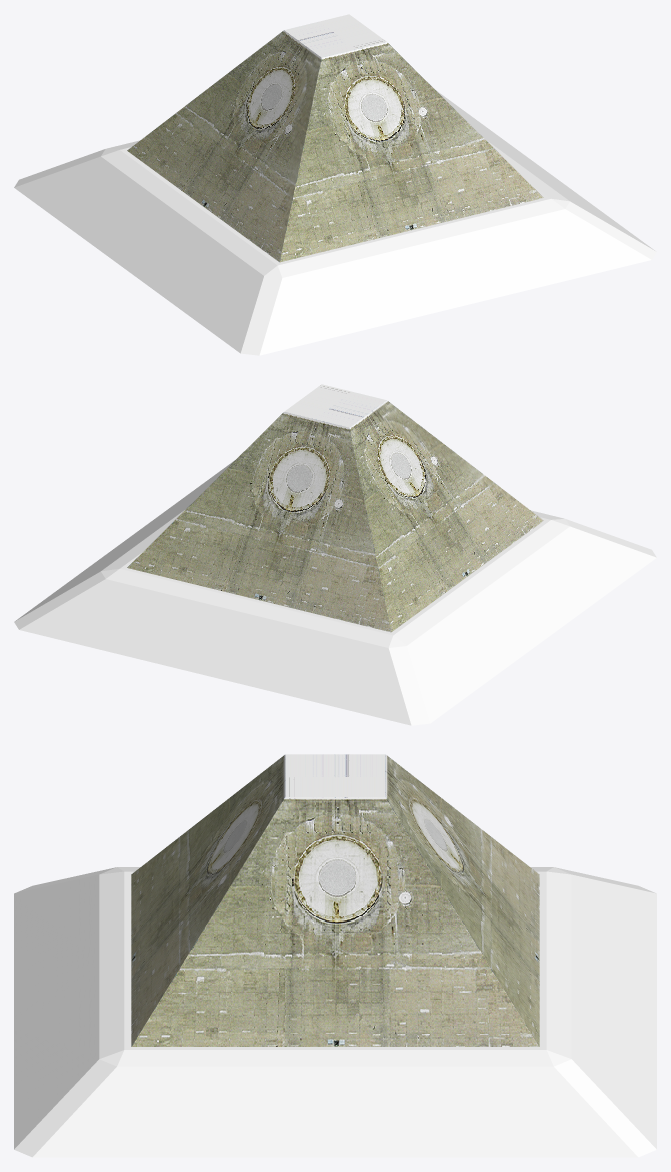
Rendered from what is that.glb.
The picture shows the model from 3 angles, top to bottom: view 1: azimuth 30°, elevation 25°; view 2: azimuth 150°, elevation 25°; view 3: azimuth 270°, elevation 25°; orthographic projection. The views are drawn at different scales.
Visible parts, largest first — view 1: Cube.003, Cube; view 2: Cube.003, Cube; view 3: Cube.003, Cube.
Part boxes in pixels (box(x1,y1,x2,y2)): Cube.003: box(14, 90, 656, 355); Cube: box(127, 14, 543, 262); Cube.003: box(14, 460, 656, 725); Cube: box(127, 384, 543, 632); Cube.003: box(14, 867, 656, 1157); Cube: box(131, 754, 539, 1046).
Size of the model in its own units: 630 by 266 by 630.
2 materials, 1 textured.
